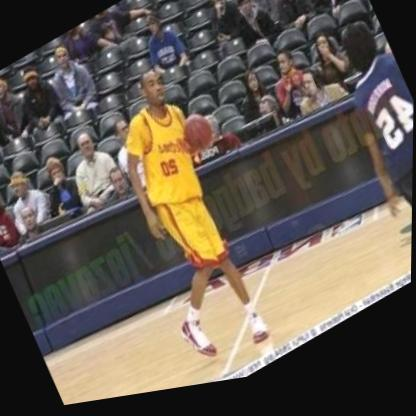basketball: (174, 109, 221, 167)
